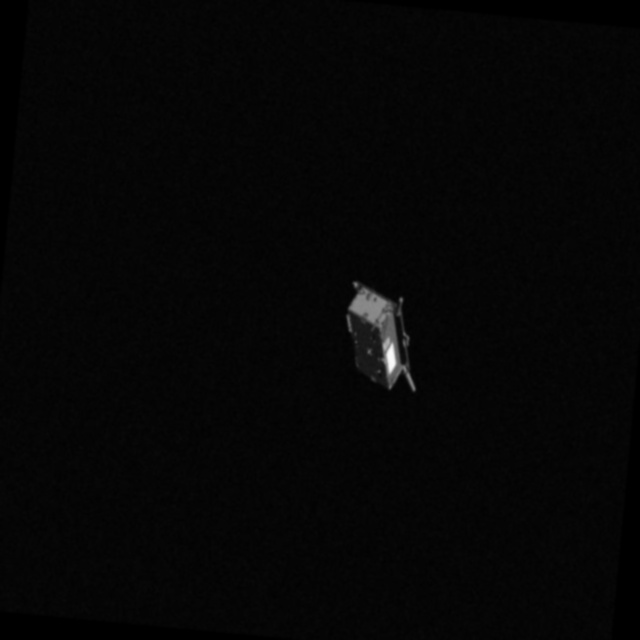medium_debris: (338, 276, 444, 395)
